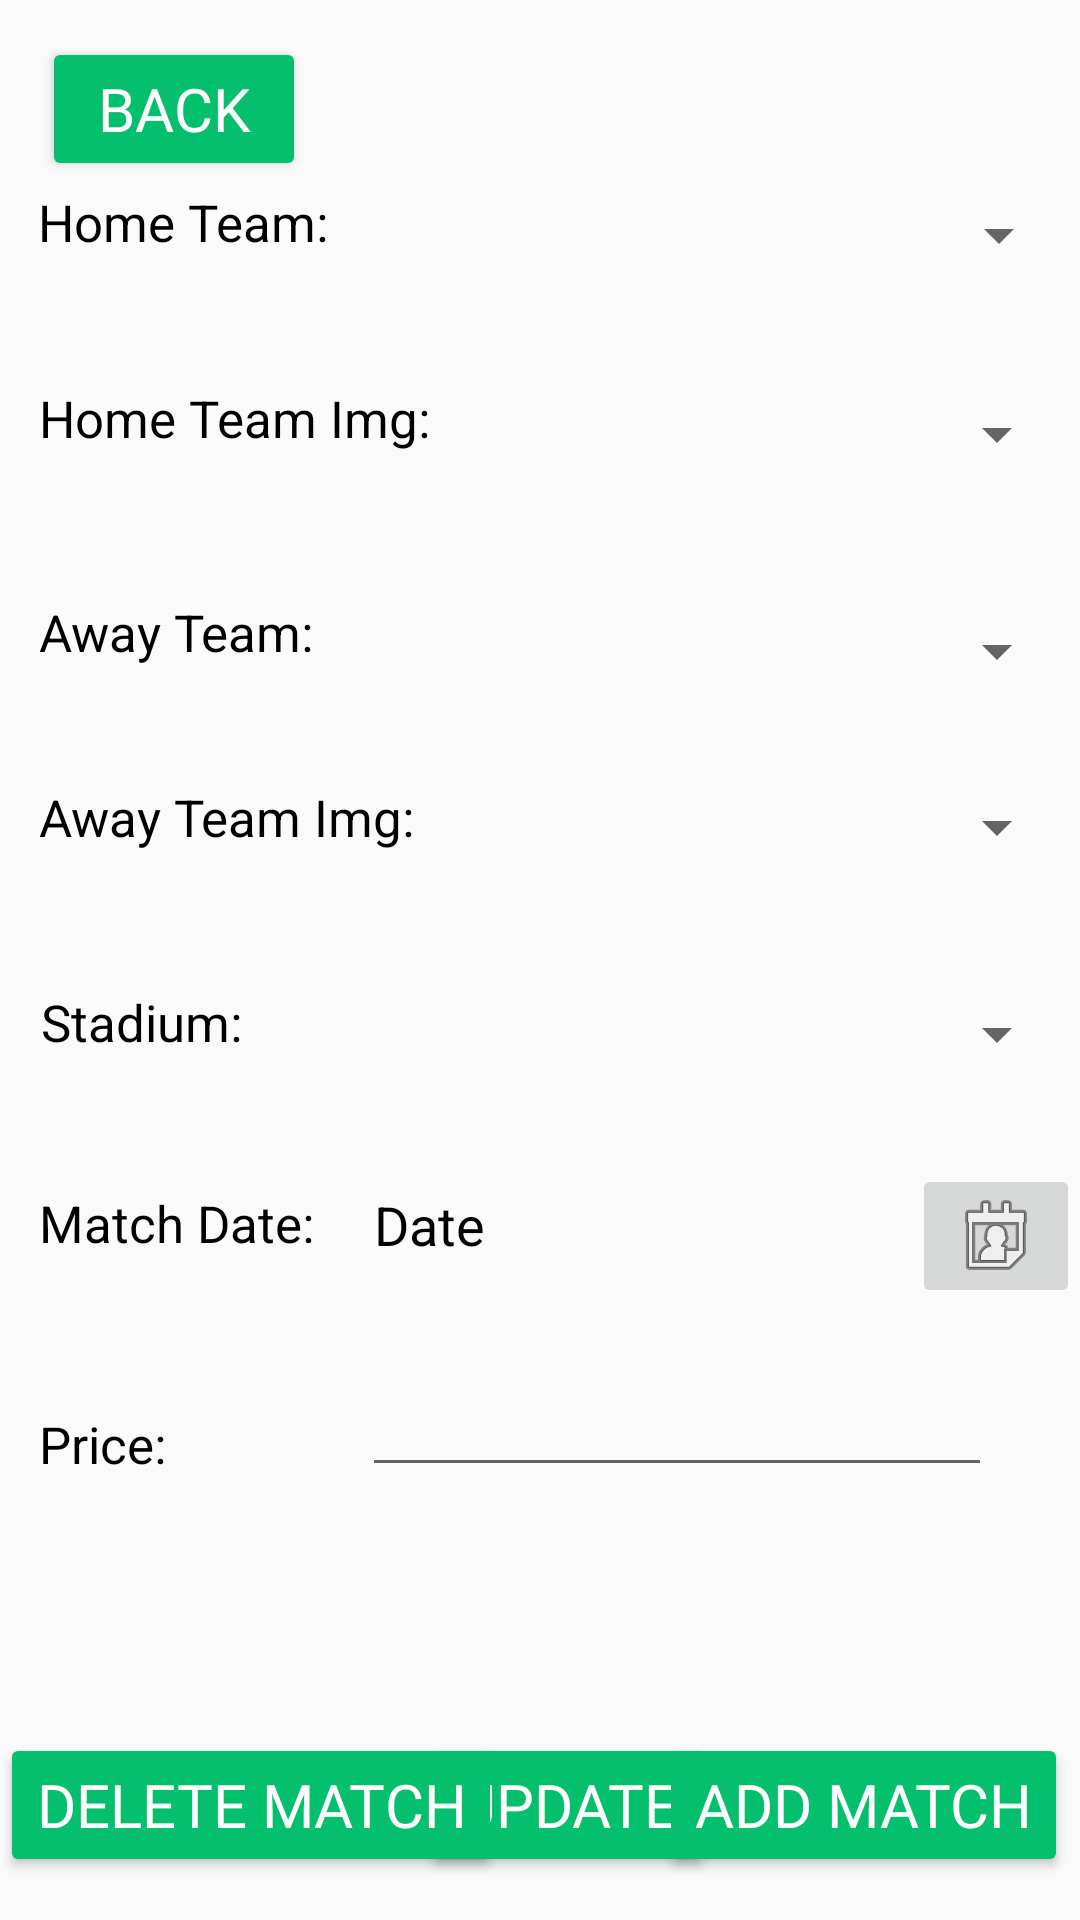

Locate icon controls on the screen. Image size 1080*1920, boxes as (x1, y1, x2, y2).
calendar: (924, 1182, 1068, 1290)
